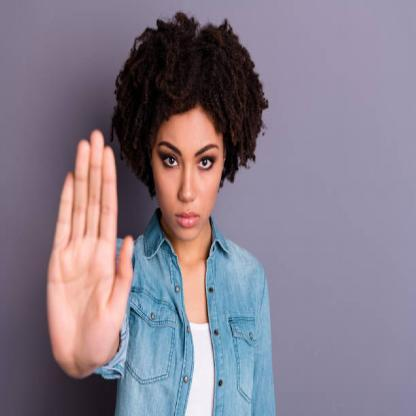stop: (44, 124, 136, 378)
